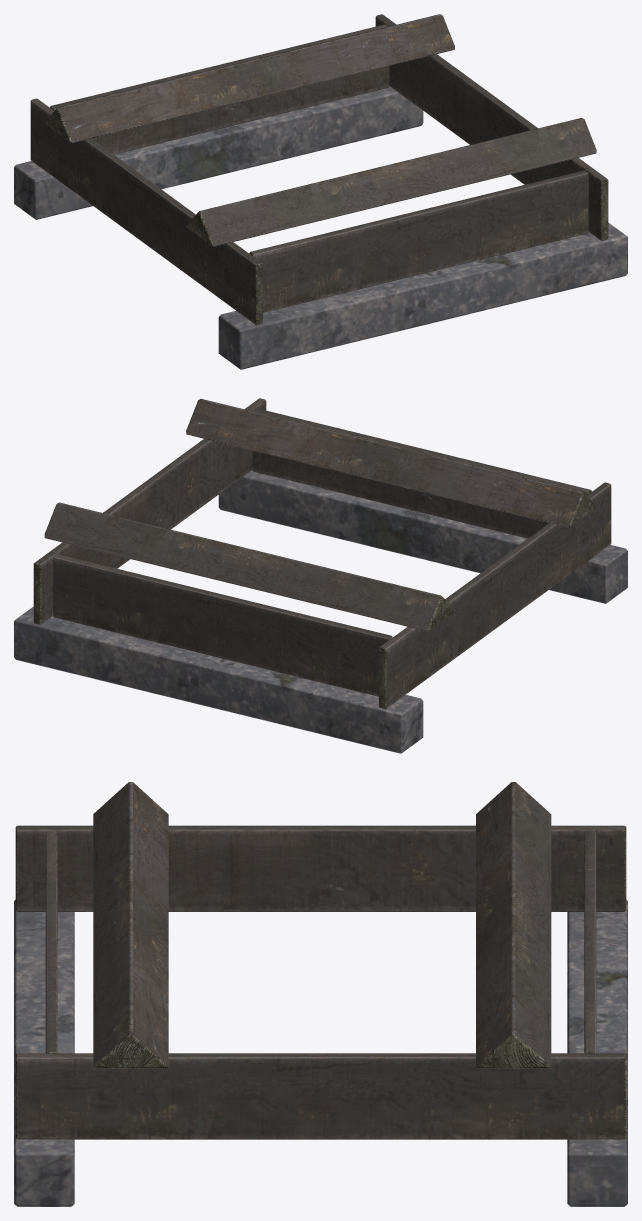
The model's file is WineCask1.fbx.
3 views of the same model, one above another, from view 1: azimuth 30°, elevation 25°; view 2: azimuth 150°, elevation 25°; view 3: azimuth 270°, elevation 25° (orthographic). The views are drawn at different scales.
Visible parts, largest first — view 1: SM_WineCaskPalletA_LOD0; view 2: SM_WineCaskPalletA_LOD0; view 3: SM_WineCaskPalletA_LOD0.
Part boxes in pixels (box(x1,y1,x2,y2)): SM_WineCaskPalletA_LOD0: box(14, 14, 627, 369); SM_WineCaskPalletA_LOD0: box(14, 398, 627, 753); SM_WineCaskPalletA_LOD0: box(14, 782, 627, 1206).
Size of the model in its own units: 200 by 62.43 by 202.
